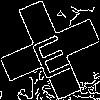E: (25, 25, 74, 81)
